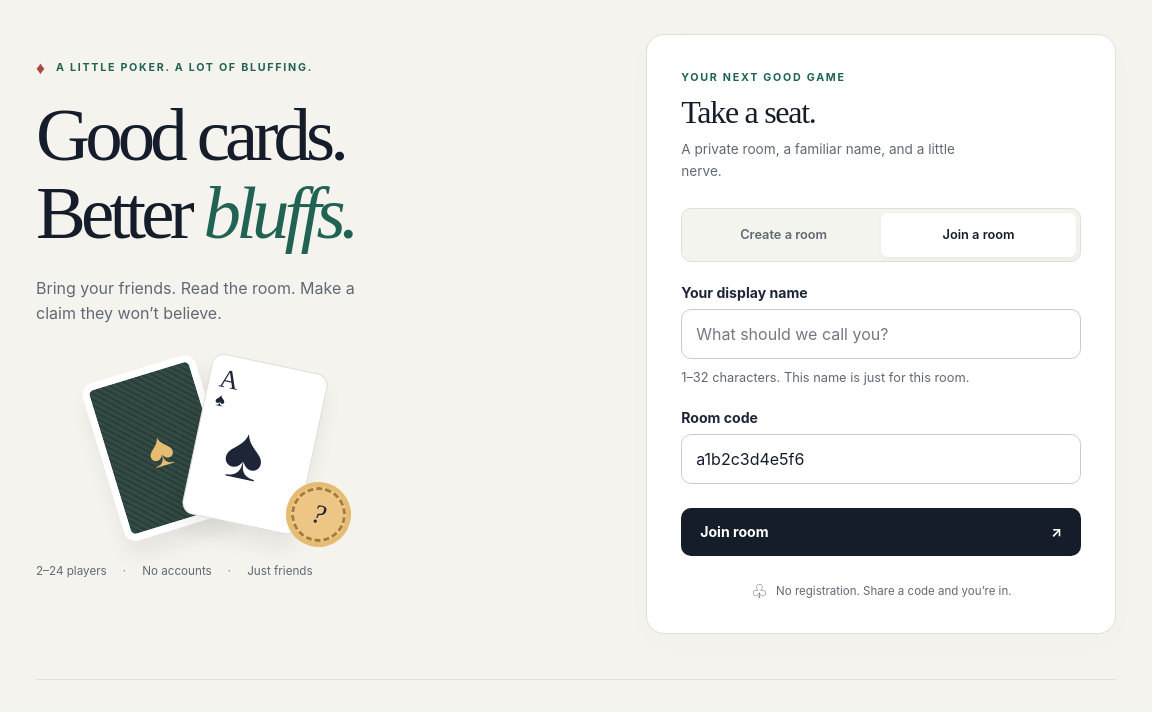
room entry › prefills invitation joins and displays server rejection
Check: the field labelled "Room code" holds "a1b2c3d4e5f6", box [681, 434, 1081, 484]
Type "Alice" into the field labelled "Your display name" at (881, 334), box [681, 309, 1081, 359]
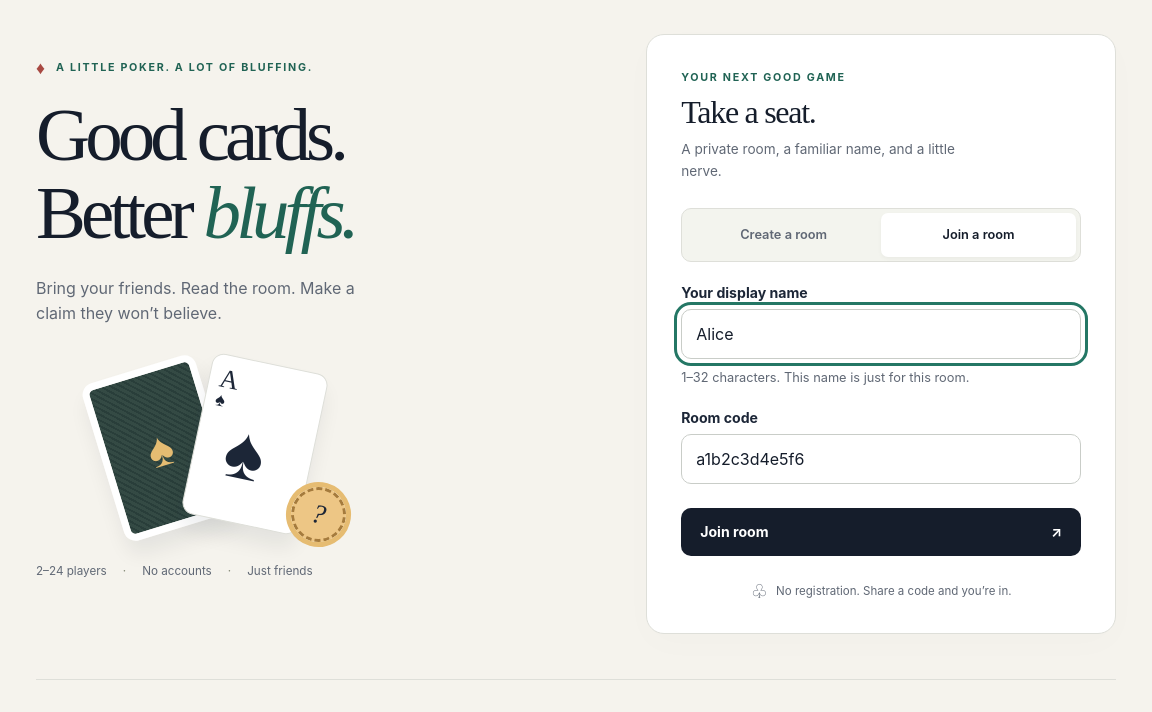
Click the button "Join room ↗" at (734, 532), box [681, 508, 1081, 556]
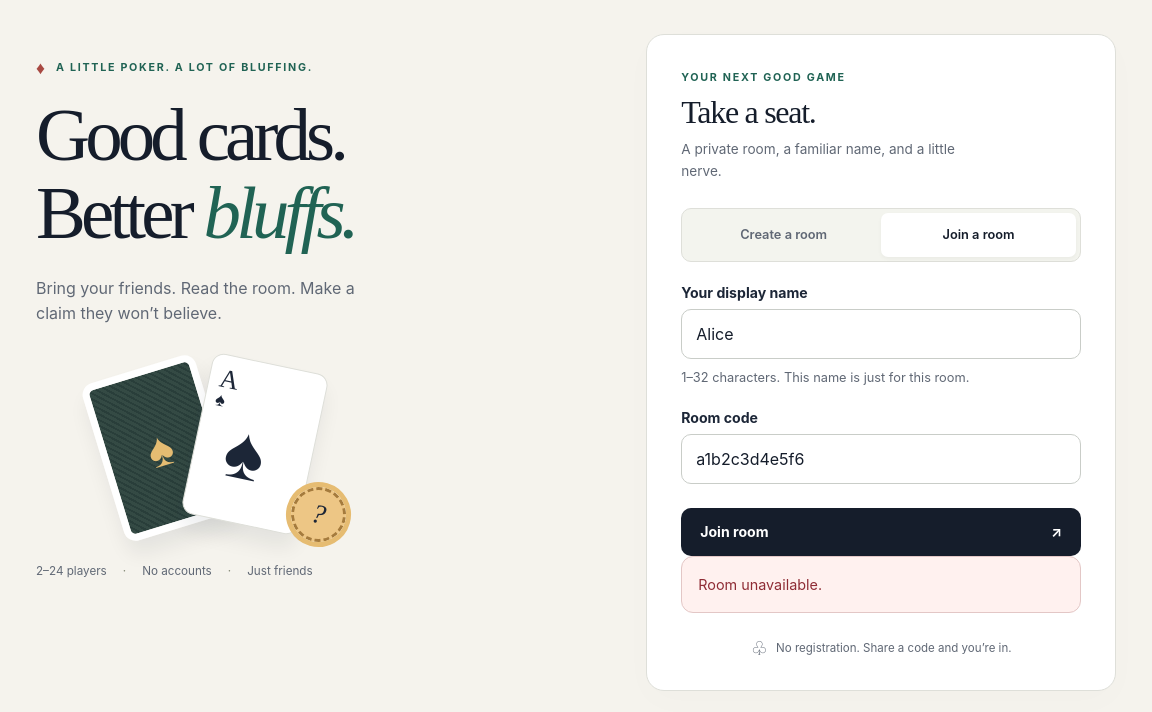
Check: the message shows "Room unavailable", box [698, 576, 822, 593]
